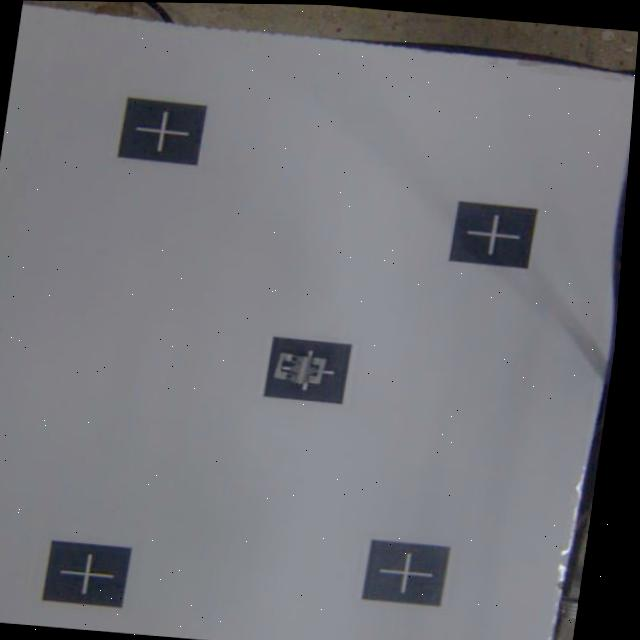pick3: (261, 333, 356, 403)
